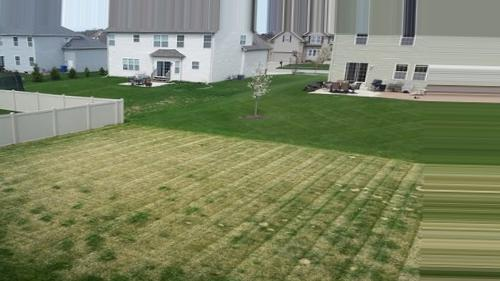patch: (45, 140, 279, 182), (129, 188, 255, 226), (157, 233, 250, 260), (306, 148, 373, 178), (58, 188, 128, 206), (9, 150, 40, 182), (115, 244, 148, 256), (31, 230, 74, 234)
